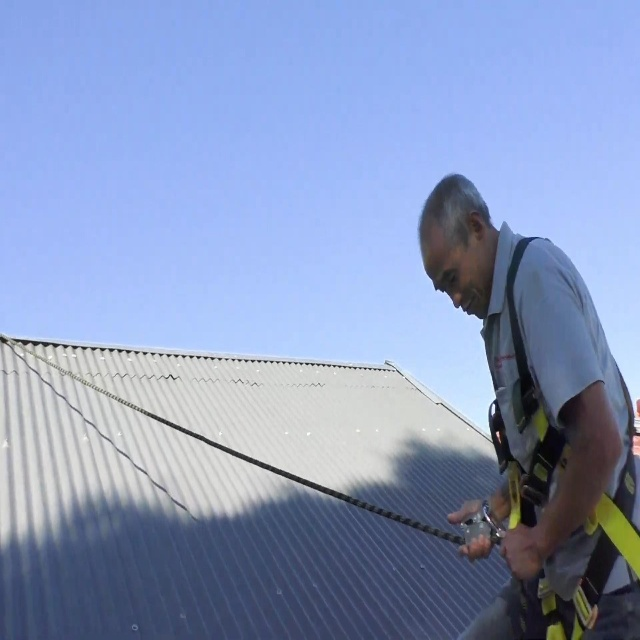Arnes_seguridad: (482, 222, 640, 640)
